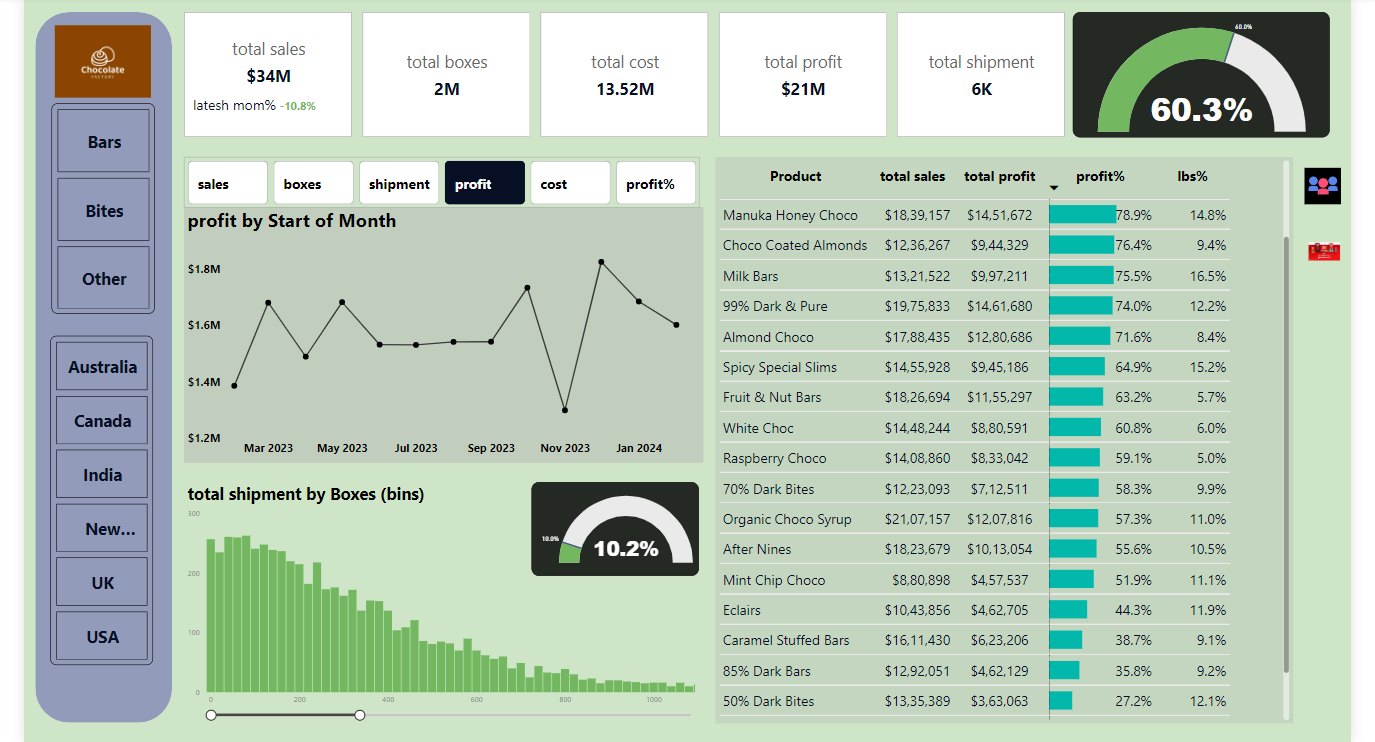

The dashboard page shown, as its layout file describes it:
{"tool":"powerbi","page":{"name":"report","canvas":[1920,1080],"ordinal":2},"visuals":[{"type":"shape","box":[16.5,22,198.1,1029],"z":0},{"type":"cardVisual","fields":{"Data":["measure_.total sales","measure_.total boxes","measure_.total cost","measure_.total profit","measure_.total shipment"]},"box":[231.6,21.6,1276.8,181.8],"z":1000},{"type":"gauge","fields":{"Y":["measure_.profit%"]},"box":[1518.8,22,372.4,181.6],"z":2000},{"type":"lineChart","fields":{"Y":["measure_.total profit"],"Category":["calendar.Start of Month"]},"box":[231.1,304.5,752,370.5],"z":3000},{"type":"advancedSlicerVisual","fields":{"Values":["M select.M select"]},"box":[231.1,231.1,746.5,73.4],"z":4000},{"type":"columnChart","fields":{"Category":["shipments.Boxes (bins)"],"Y":["measure_.total shipment"]},"box":[231.1,702.5,752,348.5],"z":5000},{"type":"gauge","fields":{"Y":["measure_.lbs%"]},"box":[735.5,702.5,242.1,135.7],"z":6000},{"type":"tableEx","title":"people table","fields":{"Values":["people.Picture","people.Sales person","measure_.total sales","measure_.total profit","measure_.profit%","measure_.lbs%","measure_.profit target indicator"]},"box":[1001.5,231.1,836.4,819.9],"z":7000},{"type":"image","title":"product","box":[1854.4,324.7,55,88],"z":9000},{"type":"image","title":"people","box":[1837.9,242.1,82.5,62.4],"z":10000},{"type":"advancedSlicerVisual","fields":{"Values":["products.Category"]},"box":[39,153.7,149.3,305.1],"z":11000},{"type":"advancedSlicerVisual","fields":{"Values":["locations.Geo"]},"box":[38.5,489.7,148.6,476.9],"z":12000},{"type":"image","box":[39,21.6,149.3,142.8],"z":12001}]}

Visuals, with their boxes on the page's 1920x1080 design canvas (x1, y1, x2, y2). These are canvas units, not pixel positions in the 1375x742 screenshot, which may show the page scaled, cropped or inside an application window:
shape: (16,22,215,1051)
cardVisual - measure_.total sales x measure_.total boxes: (232,22,1508,203)
gauge - measure_.profit%: (1519,22,1891,204)
lineChart - measure_.total profit x calendar.Start of Month: (231,304,983,675)
advancedSlicerVisual - M select.M select: (231,231,978,304)
columnChart - shipments.Boxes (bins) x measure_.total shipment: (231,702,983,1051)
gauge - measure_.lbs%: (736,702,978,838)
"people table" tableEx: (1002,231,1838,1051)
"product" image: (1854,325,1909,413)
"people" image: (1838,242,1920,304)
advancedSlicerVisual - products.Category: (39,154,188,459)
advancedSlicerVisual - locations.Geo: (38,490,187,967)
image: (39,22,188,164)
